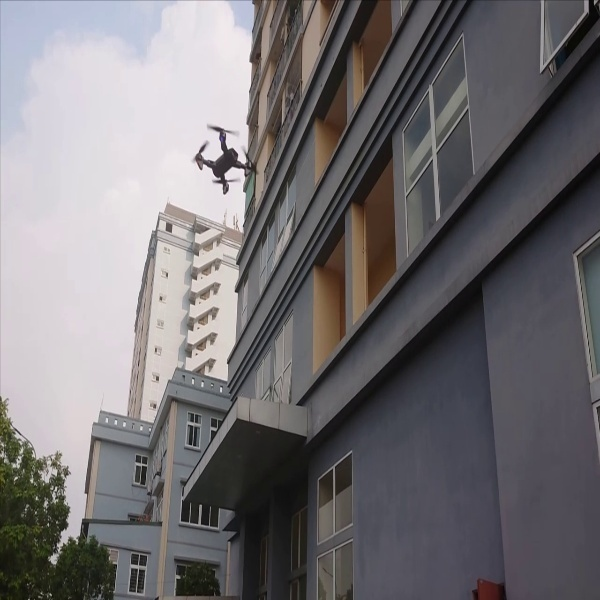drone: (184, 119, 260, 199)
